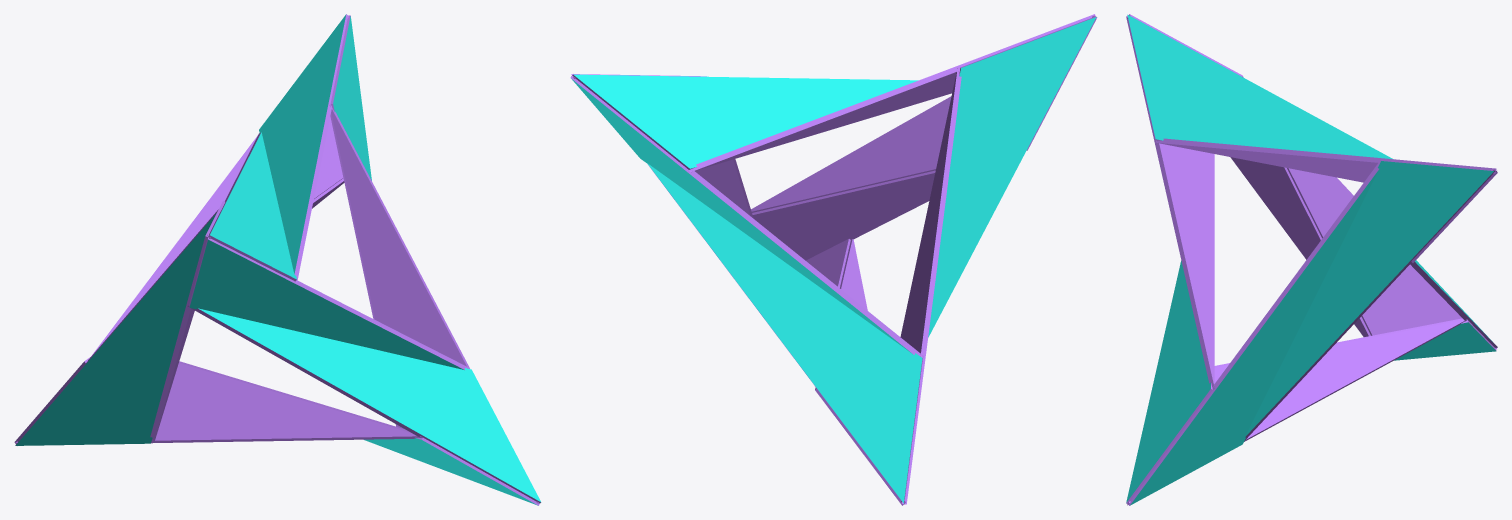
File: Tetrahedron1.glb
The picture shows the model from 3 angles, left to right: view 1: azimuth 30°, elevation 25°; view 2: azimuth 150°, elevation 25°; view 3: azimuth 270°, elevation 25°; orthographic projection. The views are drawn at different scales.
Parts seen in each view (by area): view 1: root; view 2: root; view 3: root.
Boxes of the visible parts, x1,y1,x2,y2 form: root: (14, 14, 541, 505); root: (570, 14, 1097, 505); root: (1126, 14, 1497, 505).
Bounding box in the file's own units: 0.7144 × 0.7144 × 0.7144.
